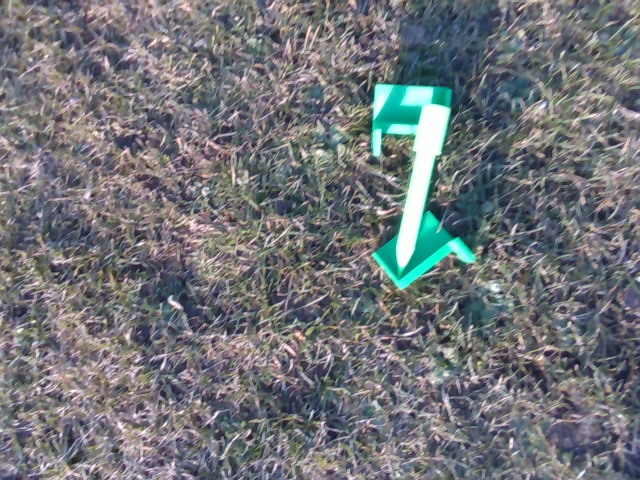Probe: (393, 99, 452, 279)
